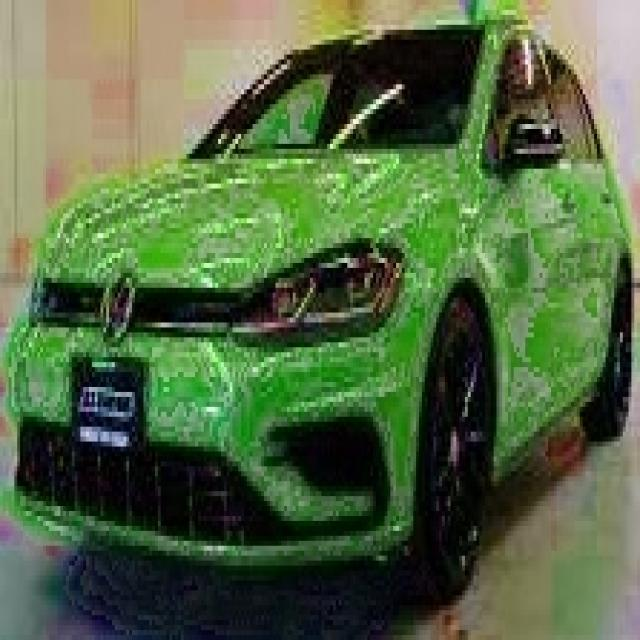green: (13, 15, 636, 600)
